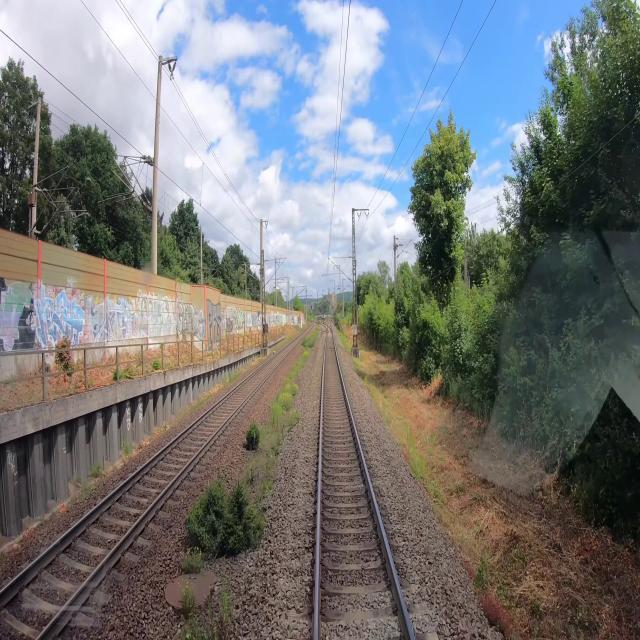Plant: (184, 472, 266, 558), (183, 588, 234, 639), (269, 376, 298, 429), (178, 578, 196, 617), (180, 545, 202, 573), (290, 349, 310, 379), (245, 421, 262, 450), (259, 477, 273, 495), (301, 334, 316, 348), (289, 409, 298, 428), (327, 321, 332, 332)
